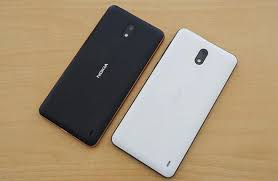nokia: (36, 2, 167, 151)
